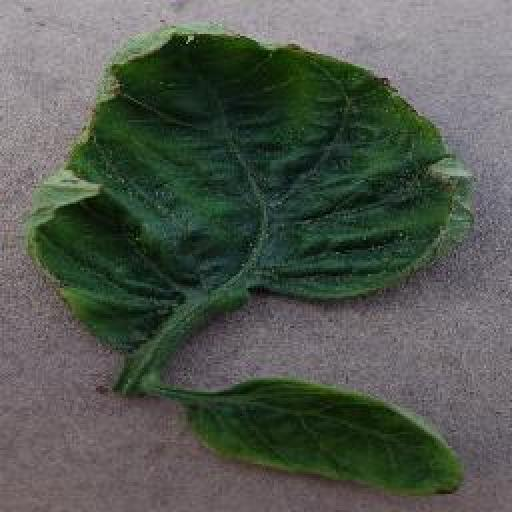disease_tomato: (30, 18, 478, 354), (189, 374, 463, 498)
